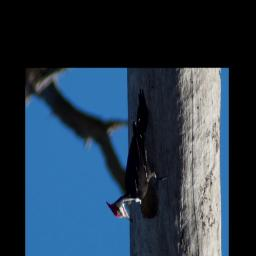Woodpecker: (105, 88, 168, 223)
